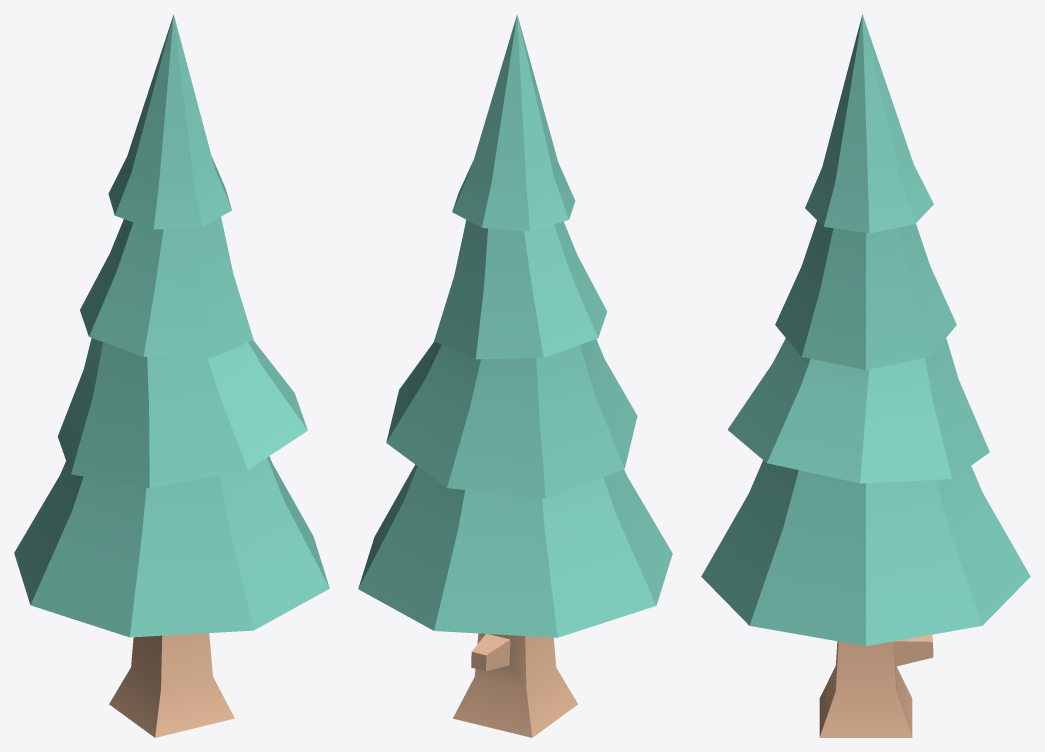
Rendered from tree_crooked.glb.
3 views of the same model, side by side, from view 1: azimuth 30°, elevation 25°; view 2: azimuth 150°, elevation 25°; view 3: azimuth 270°, elevation 25° (orthographic).
Visible parts, largest first — view 1: treeCrooked; view 2: treeCrooked; view 3: treeCrooked.
Boxes of the visible parts, bbox=[...] form: treeCrooked: bbox=[14, 14, 329, 737]; treeCrooked: bbox=[358, 14, 672, 737]; treeCrooked: bbox=[701, 14, 1030, 737].
Bounding box in the file's own units: 1.02 × 2.41 × 1.02.
